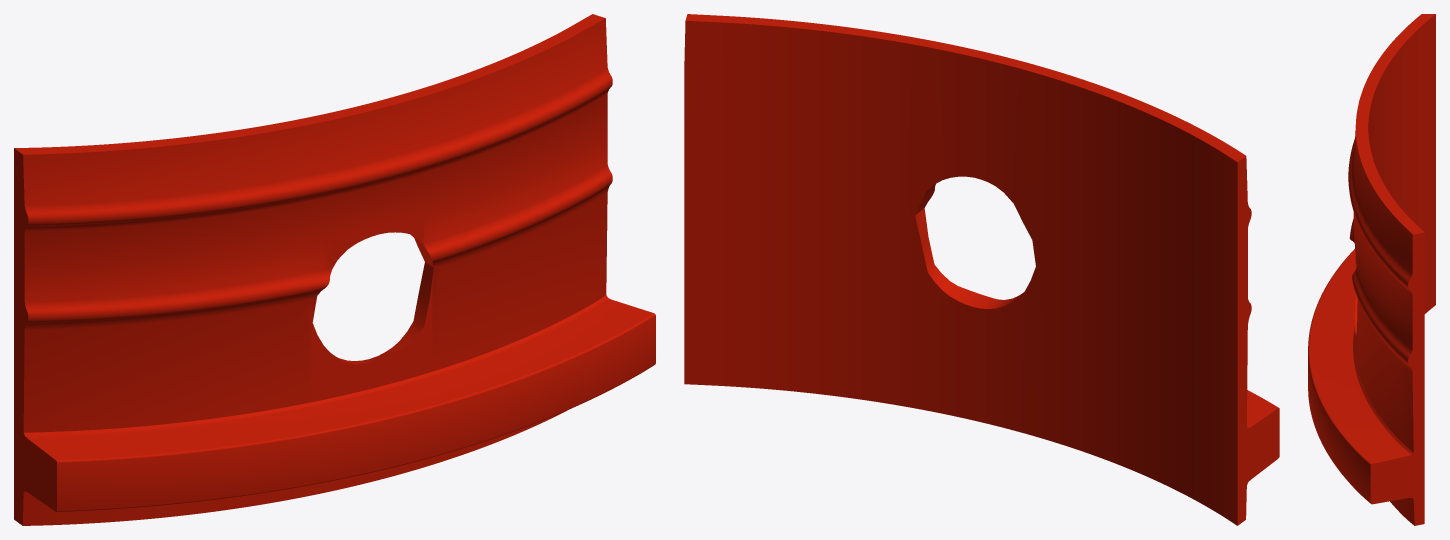
Rendered from Вводы.fbx.
3 views of the same model, side by side, from view 1: azimuth 30°, elevation 25°; view 2: azimuth 150°, elevation 25°; view 3: azimuth 270°, elevation 25° (orthographic). The views are drawn at different scales.
Parts seen in each view (by area): view 1: Цилиндр.003; view 2: Цилиндр.003; view 3: Цилиндр.003.
Boxes of the visible parts, <box> form: Цилиндр.003: <box>14,14,655,525</box>; Цилиндр.003: <box>684,14,1279,525</box>; Цилиндр.003: <box>1308,14,1435,525</box>.
Size of the model in its own units: 39.88 by 23.58 by 9.38.
